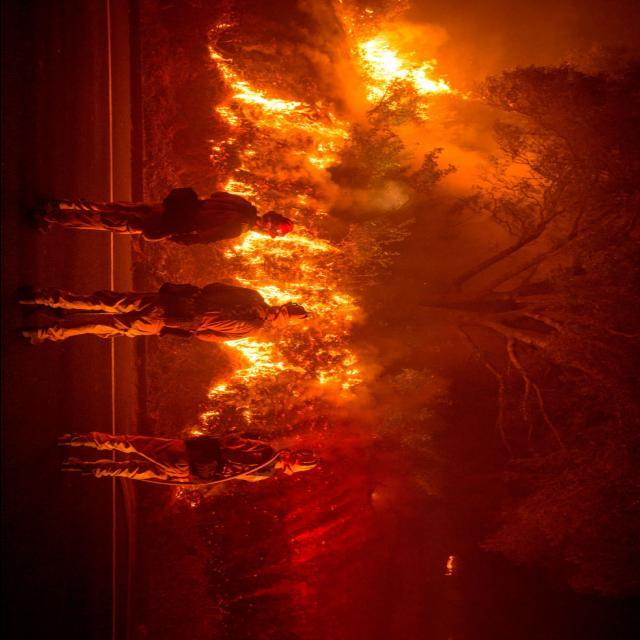Fire: (192, 24, 468, 457)
